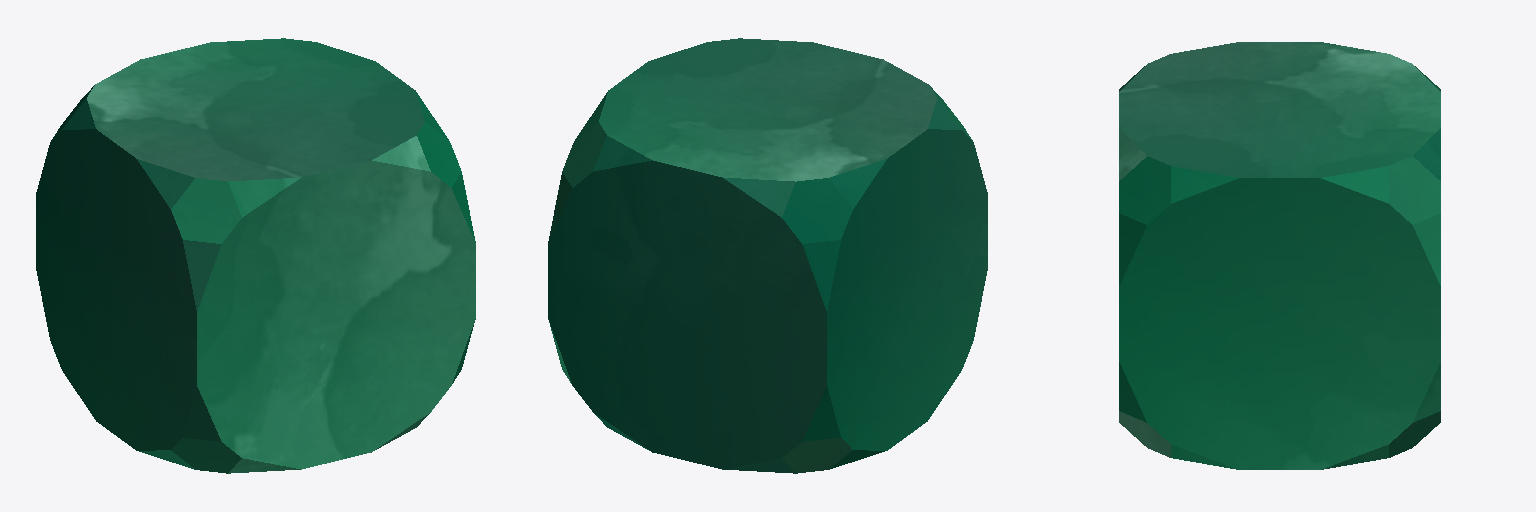
The picture shows the model from 3 angles: view 1: azimuth 30°, elevation 25°; view 2: azimuth 150°, elevation 25°; view 3: azimuth 270°, elevation 25°; orthographic projection.
Parts seen in each view (by area): view 1: Cube; view 2: Cube; view 3: Cube.
Boxes of the visible parts, x1,y1,x2,y2 form: Cube: [36, 38, 475, 473]; Cube: [548, 38, 987, 473]; Cube: [1119, 42, 1440, 469].
Size of the model in its own units: 2 by 2 by 2.
1 materials, 1 textured.